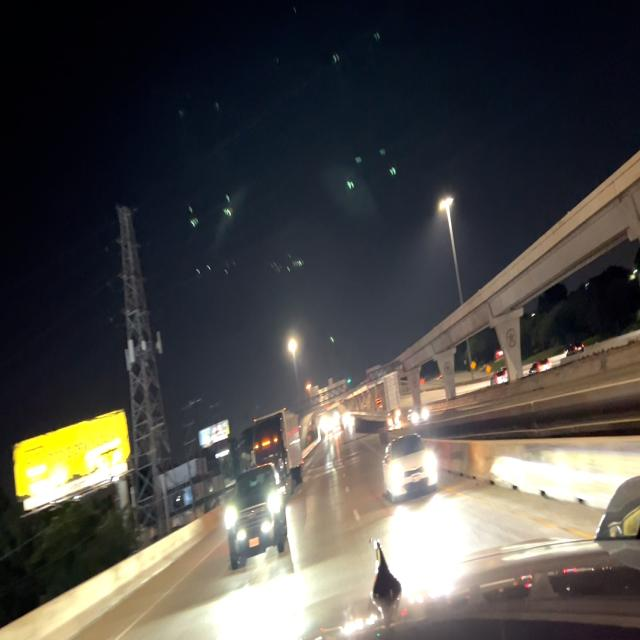back-of-sign: (310, 377, 348, 410), (382, 372, 403, 416), (367, 364, 383, 385)
